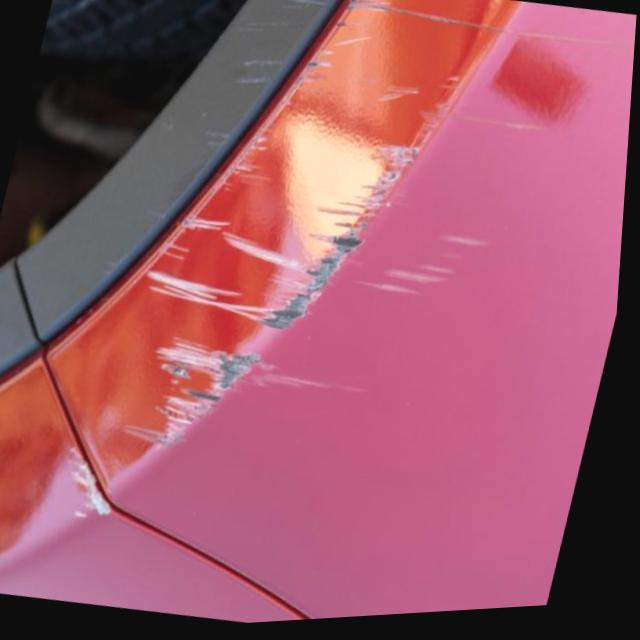Scratch: (110, 0, 635, 465), (59, 438, 119, 534)
